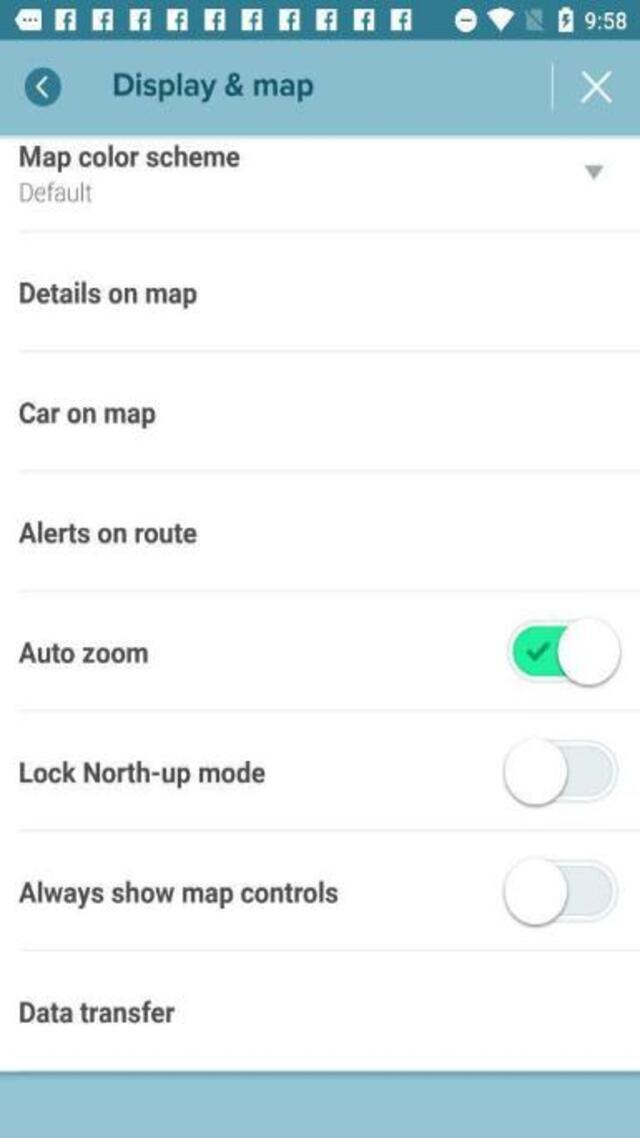CheckedTextView: (498, 735, 622, 810), (499, 854, 620, 929), (506, 617, 625, 688)
Icon: (24, 67, 62, 108), (581, 70, 613, 104), (584, 165, 602, 180)
Text: (18, 878, 340, 910), (16, 759, 269, 789), (20, 144, 239, 173), (114, 74, 312, 104), (19, 280, 197, 310), (18, 520, 197, 546), (16, 998, 177, 1024), (19, 402, 154, 430), (18, 640, 153, 664), (20, 182, 93, 202)
